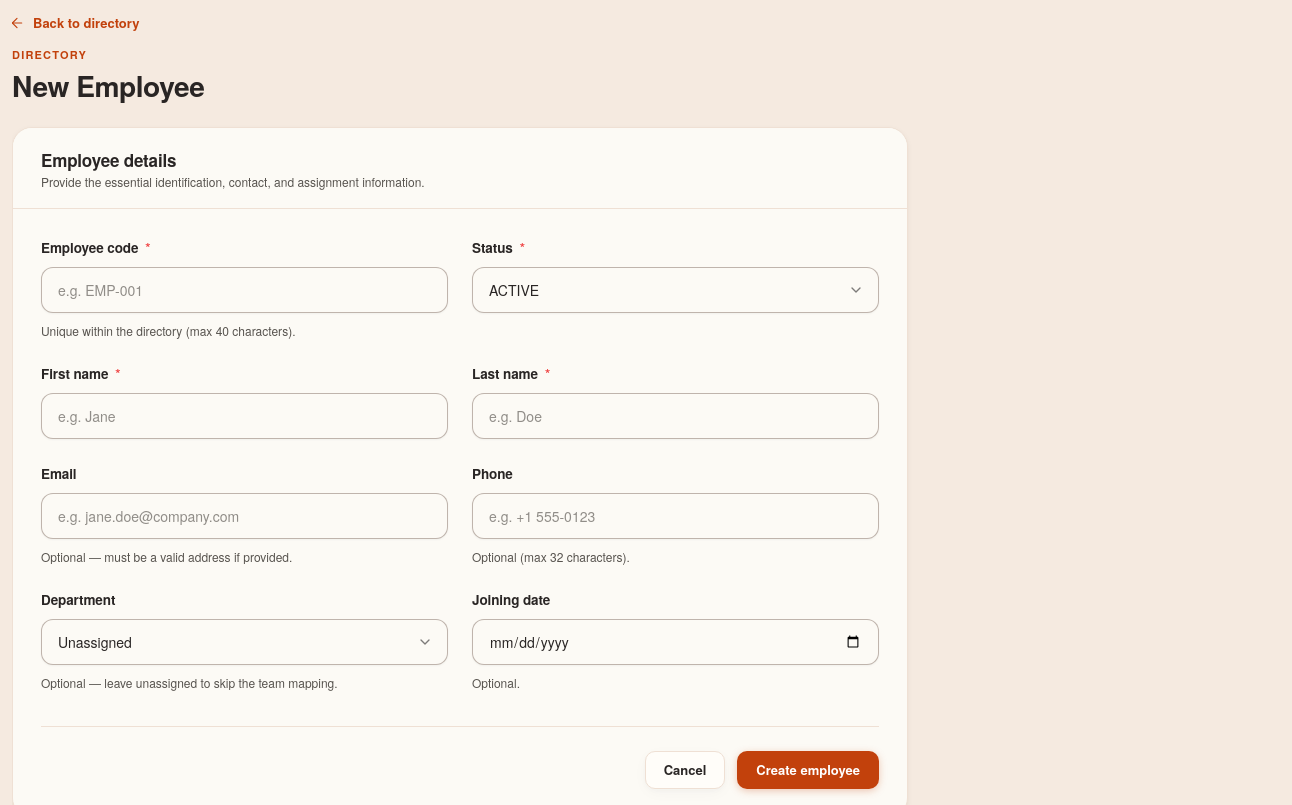
Test: NewEmployeePage › blocks submission and focuses the first invalid field when required data is missing
The image size is (1292, 805).
Step 1. Click the button "Create employee" → (808, 770), box 737,751 -> 879,789
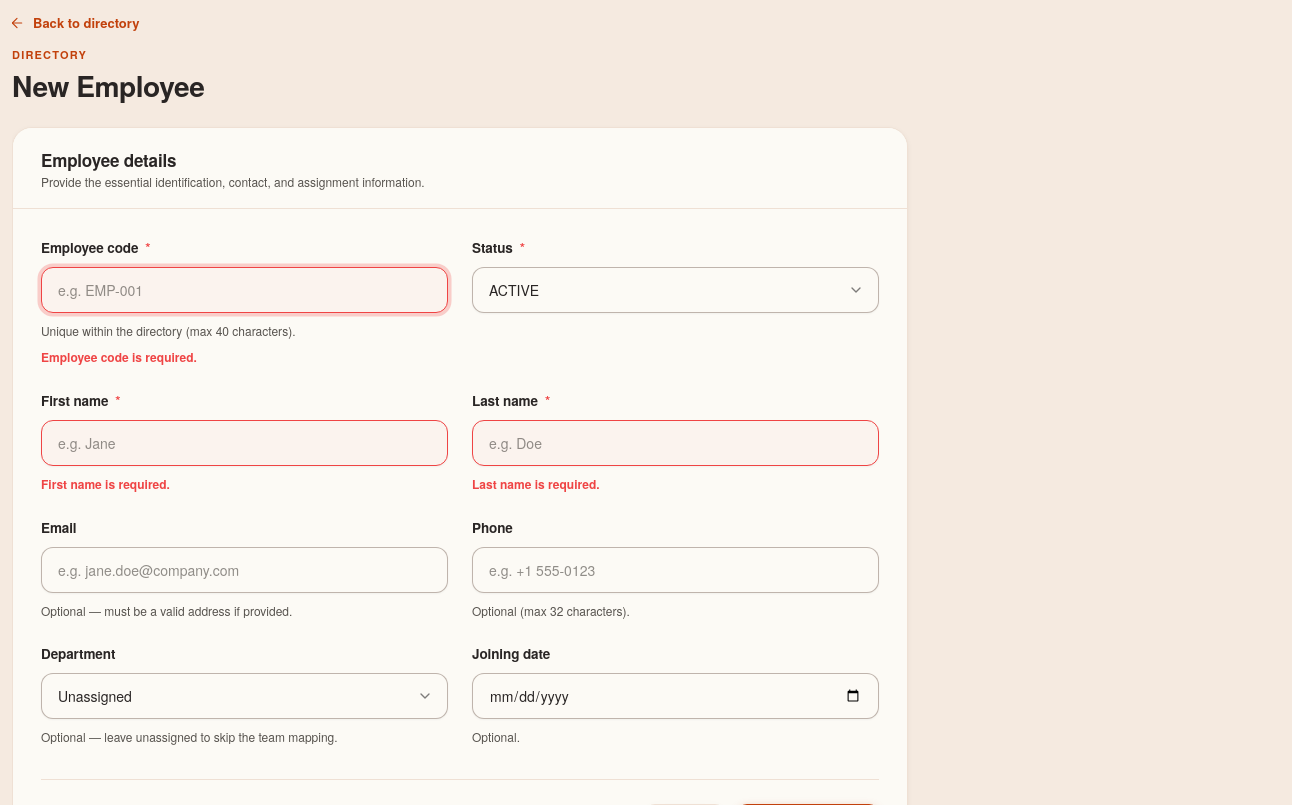
Check: the text "Employee code is required." is shown, box 41,348 -> 197,366
Check: the text "First name is required." is shown, box 41,475 -> 170,493
Check: the text "Last name is required." is shown, box 472,475 -> 600,493
